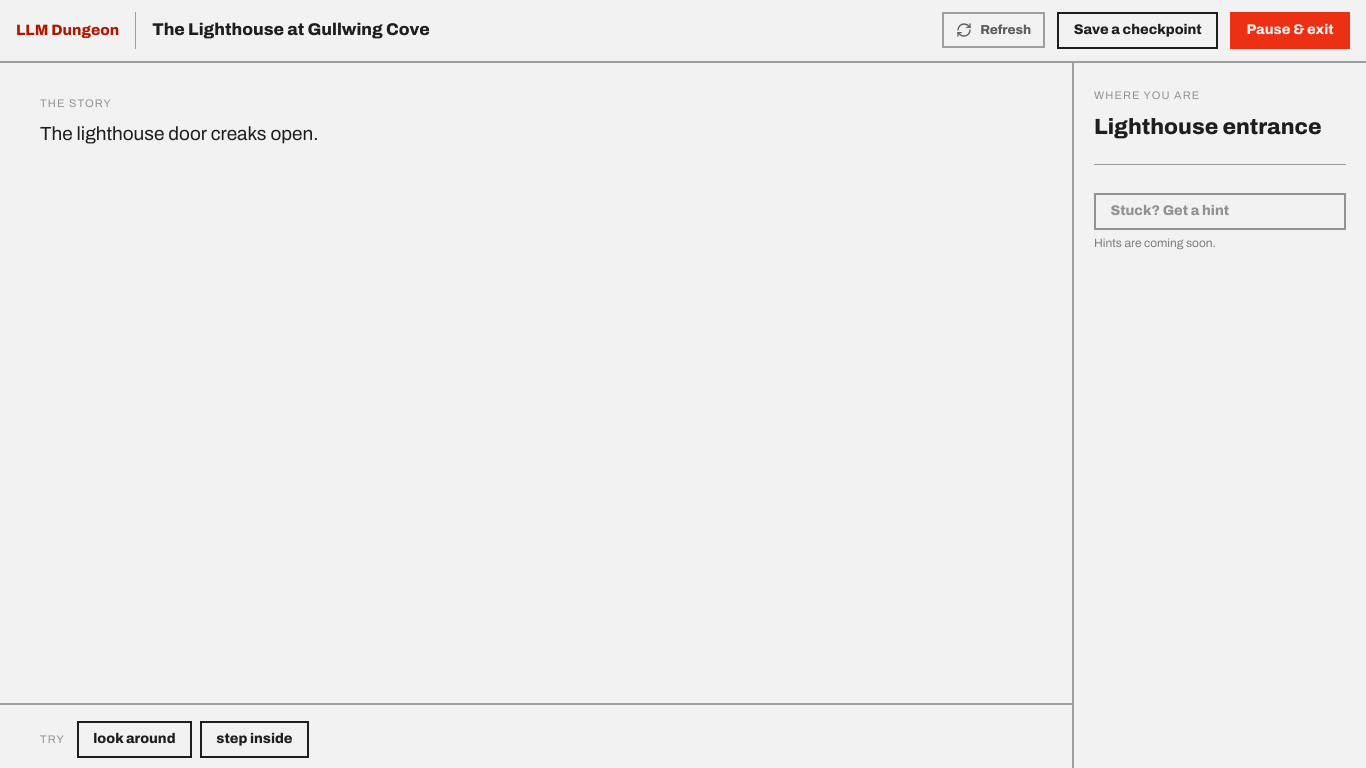
Test: PlayPage (008-core-gameplay-done) › shows the non-blocking failure notice on a failed save and leaves the game playable
The image size is (1366, 768).
Click the button "Save a checkpoint".
click(1138, 30)  # box [1057, 12, 1218, 49]
(page scrolled)
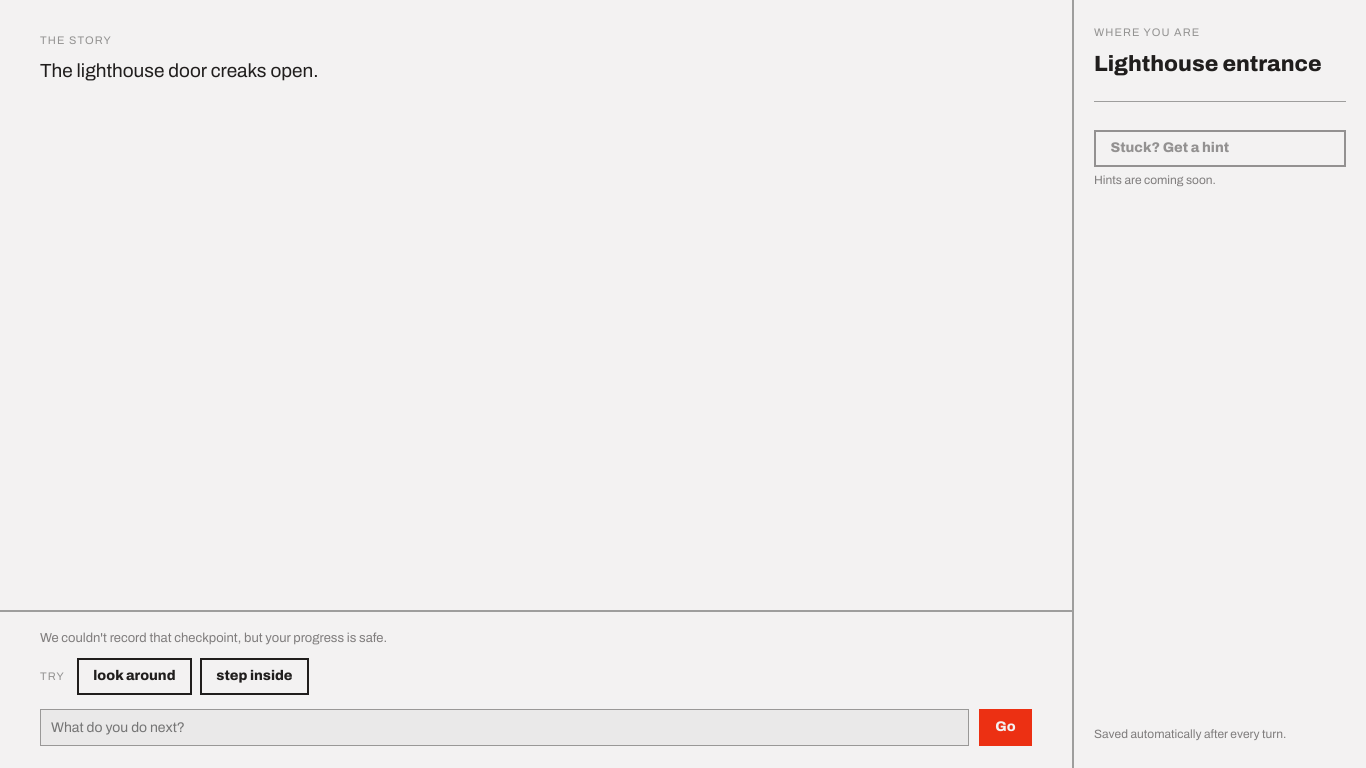
Expected: the field labelled "What do you do next?" is enabled, [40, 709, 969, 746]
Result: the message reads "We couldn't record that checkpoint, but your progress is safe." at [40, 631, 387, 645]
